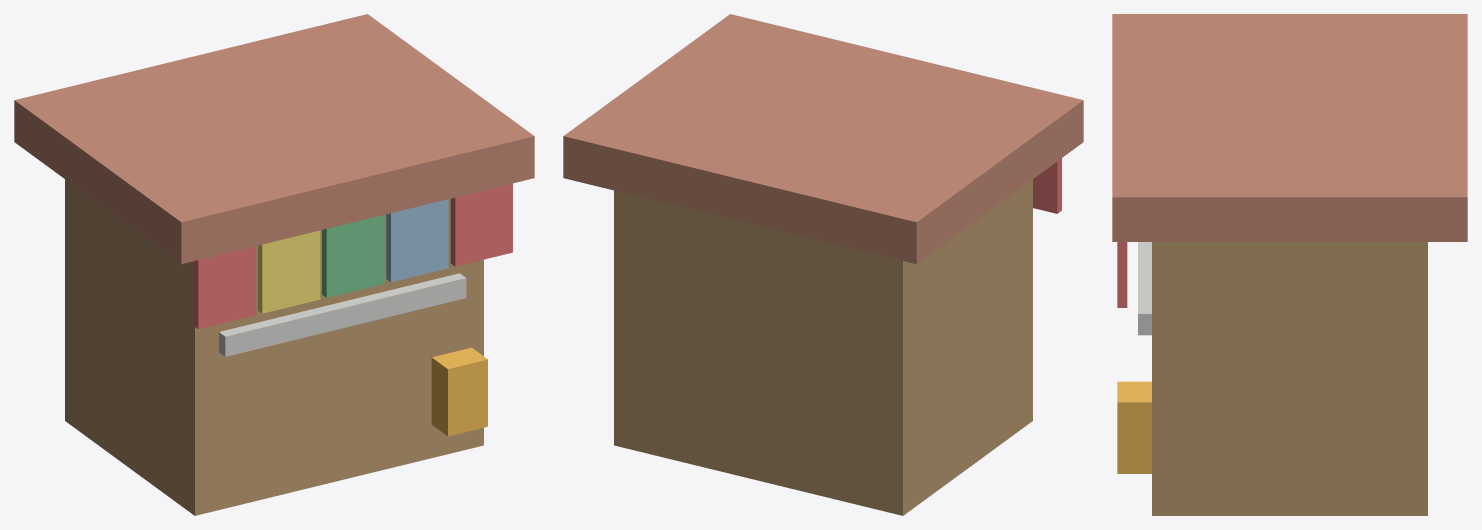
File: kiosk.glb
3 views of the same model, side by side, from view 1: azimuth 30°, elevation 25°; view 2: azimuth 150°, elevation 25°; view 3: azimuth 270°, elevation 25° (orthographic). The views are drawn at different scales.
Visible parts, largest first — view 1: kiosk; view 2: kiosk; view 3: kiosk.
Boxes of the visible parts, <box> form: kiosk: <box>14,14,534,515</box>; kiosk: <box>563,14,1083,515</box>; kiosk: <box>1112,14,1467,515</box>.
Size of the model in its own units: 2.2 by 1.88 by 1.8.
